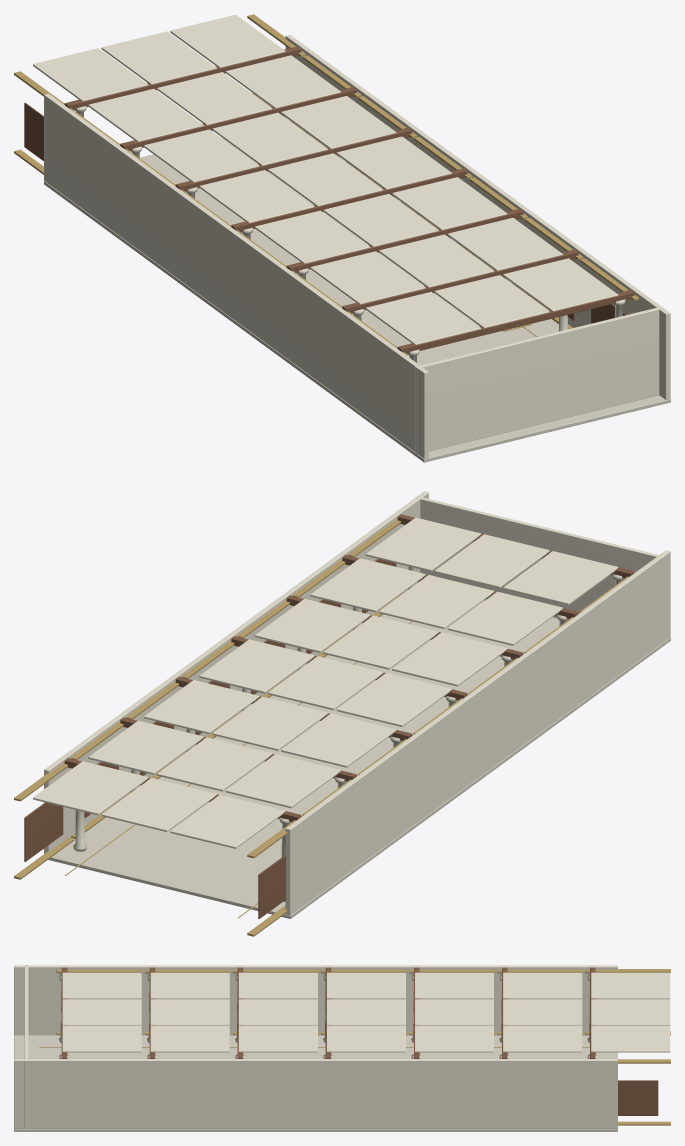
The model's file is civic-gallery.glb.
The picture shows the model from 3 angles, top to bottom: view 1: azimuth 30°, elevation 25°; view 2: azimuth 150°, elevation 25°; view 3: azimuth 270°, elevation 25°; orthographic projection. The views are drawn at different scales.
Parts seen in each view (by area): view 1: Gallery wall, Exhibition panel, Gallery foundation, Wall cornice; view 2: Gallery wall, Gallery foundation, Exhibition panel, Wall cornice; view 3: Gallery wall, Gallery foundation, Wall cornice, Exhibition panel.
Part boxes in pixels (bbox=[...]): Gallery wall: bbox=[33, 14, 670, 458]; Exhibition panel: bbox=[24, 46, 634, 353]; Gallery foundation: bbox=[44, 55, 670, 462]; Wall cornice: bbox=[14, 14, 638, 355]; Gallery wall: bbox=[33, 491, 670, 915]; Gallery foundation: bbox=[48, 523, 670, 918]; Exhibition panel: bbox=[24, 514, 634, 918]; Wall cornice: bbox=[14, 519, 635, 936]; Gallery wall: bbox=[14, 965, 670, 1128]; Gallery foundation: bbox=[14, 974, 617, 1131]; Wall cornice: bbox=[39, 969, 670, 1125]; Exhibition panel: bbox=[61, 967, 658, 1115].
Bounding box in the file's own units: 18 × 6.34 × 52.2.
